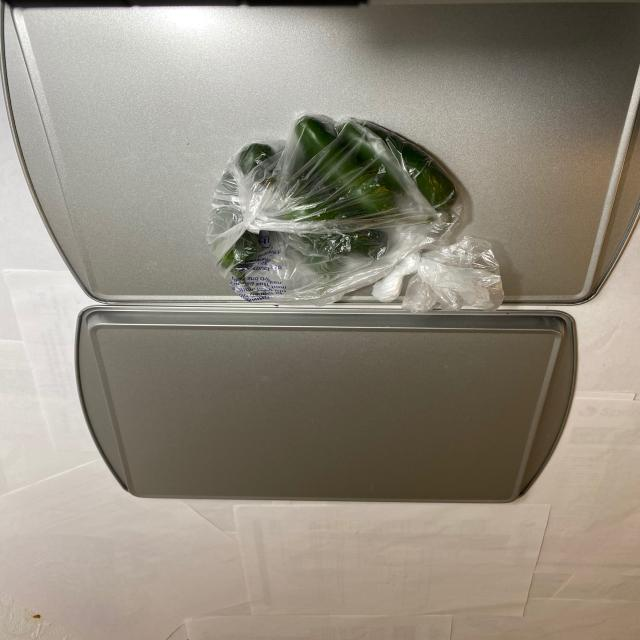chilli: (205, 128, 461, 294)
